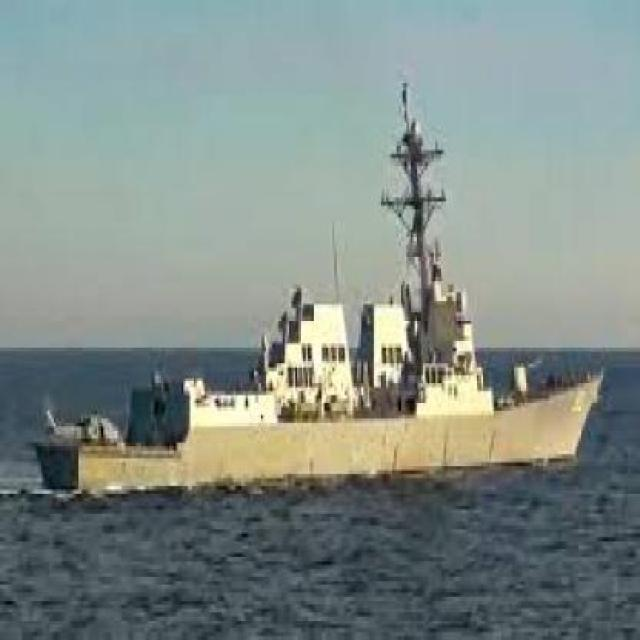warship2: (38, 64, 610, 510)
